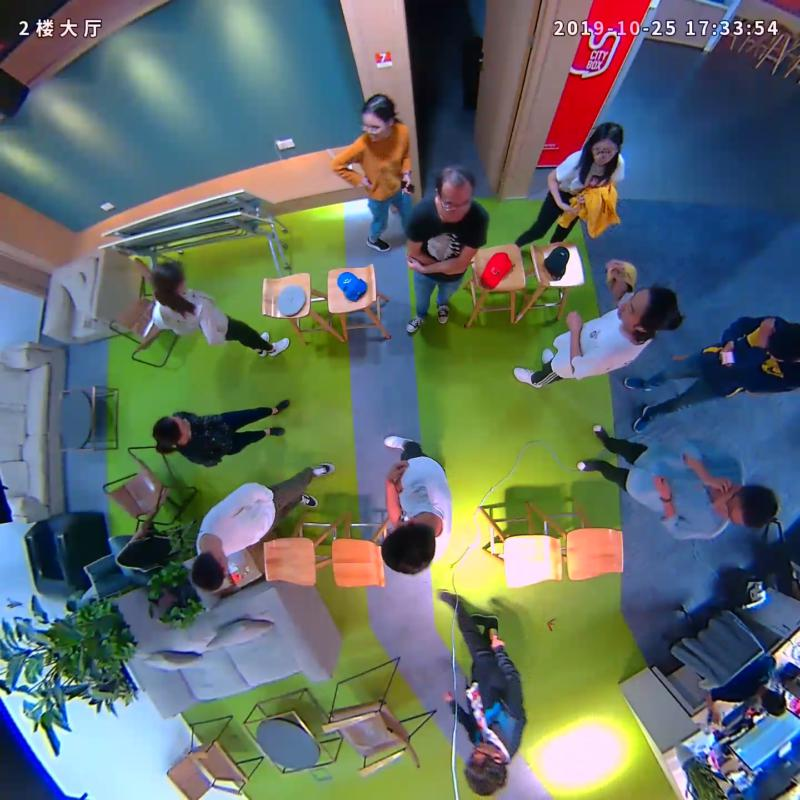head: (380, 520, 437, 576), (713, 483, 778, 531), (617, 285, 678, 334), (463, 741, 507, 798), (435, 164, 474, 220), (191, 547, 229, 592), (361, 93, 395, 141), (589, 121, 624, 164), (149, 262, 186, 295), (152, 415, 191, 445)
